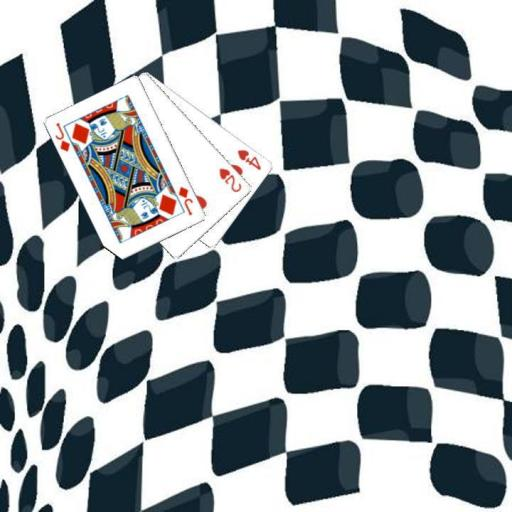card-corner: (216, 165, 243, 194), (235, 146, 263, 172), (52, 120, 72, 154), (176, 183, 194, 217)
